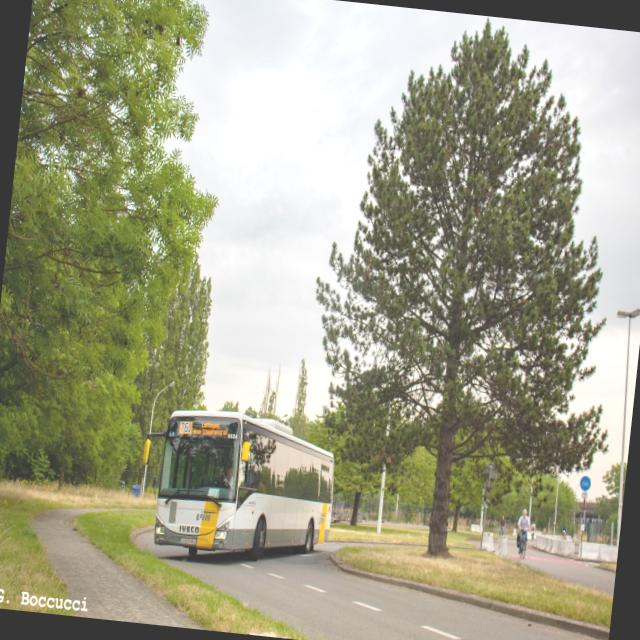bus-number: (178, 421, 192, 434)
